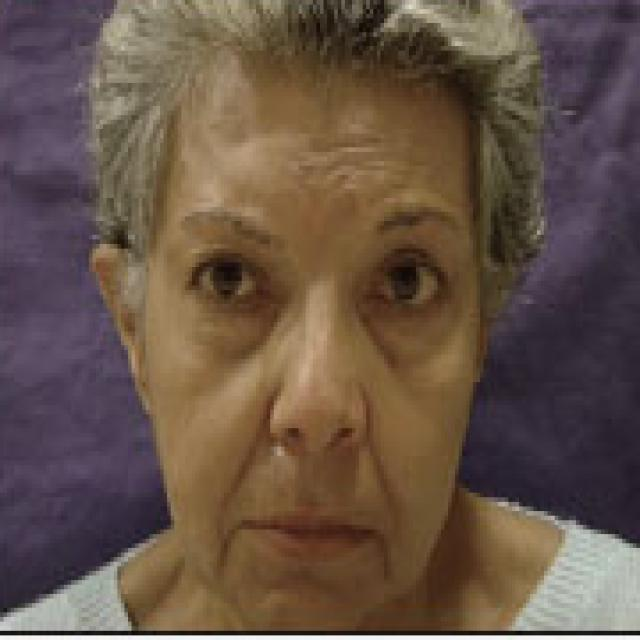normal_face: (110, 0, 508, 631)
